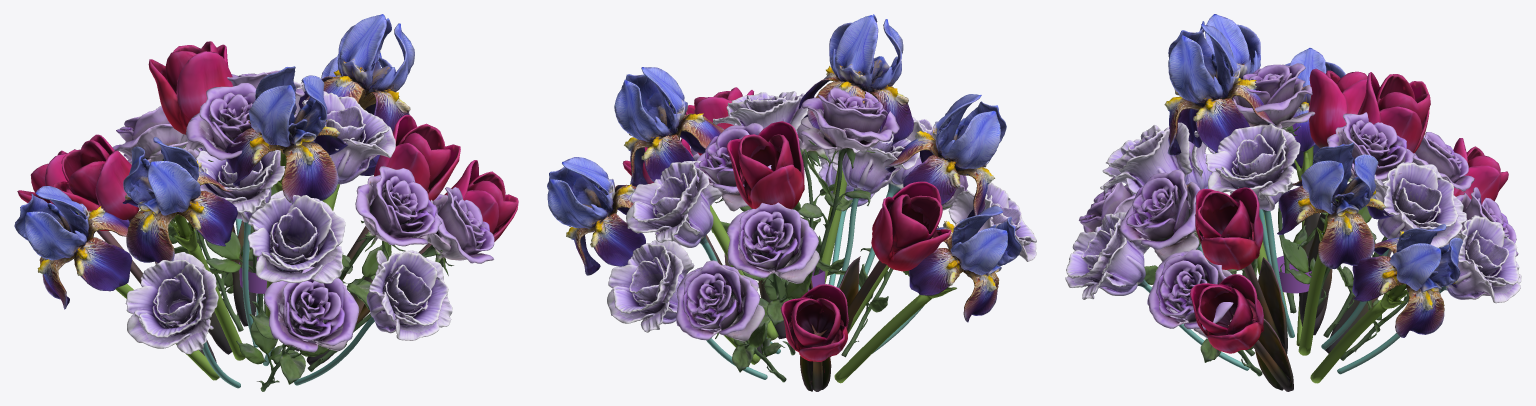
File: purple_flower_bouquet.glb
3 views of the same model, side by side, from view 1: azimuth 30°, elevation 25°; view 2: azimuth 150°, elevation 25°; view 3: azimuth 270°, elevation 25° (orthographic). The views are drawn at different scales.
Parts seen in each view (by area): view 1: Bouquet_iris_12, Bouquet_iris_1, Bouquet_iris_21, Bouquet_rose_23, Bouquet_eustoma_22, Bouquet_eustoma_13, Bouquet_eustoma_14, Bouquet_rose_6, Bouquet_iris_8, Bouquet_tulip_4, Bouquet_rose_0, Bouquet_tulip_11 (+10 smaller); view 2: Bouquet_iris_21, Bouquet_iris_8, Bouquet_iris_12, Bouquet_rose_10, Bouquet_iris_17, Bouquet_iris_1, Bouquet_rose_19, Bouquet_rose_0, Bouquet_tulip_11, Bouquet_eustoma_18, Bouquet_eustoma_9, Bouquet_tulip_4 (+11 smaller); view 3: Bouquet_iris_8, Bouquet_iris_17, Bouquet_iris_1, Bouquet_tulip_7, Bouquet_eustoma_2, Bouquet_tulip_16, Bouquet_eustoma_9, Bouquet_eustoma_14, Bouquet_rose_6, Bouquet_eustoma_18, Bouquet_rose_15, Bouquet_tulip_4 (+12 smaller).
Boxes of the visible parts, x1,y1,x2,y2 form: Bouquet_iris_12: (122, 137, 245, 360); Bouquet_iris_1: (225, 66, 347, 317); Bouquet_iris_21: (14, 186, 219, 380); Bouquet_rose_23: (236, 266, 359, 391); Bouquet_eustoma_22: (125, 252, 240, 388); Bouquet_eustoma_13: (247, 190, 345, 365); Bouquet_eustoma_14: (294, 250, 452, 385); Bouquet_rose_6: (289, 166, 441, 350); Bouquet_iris_8: (298, 14, 414, 209); Bouquet_tulip_4: (148, 41, 256, 326); Bouquet_rose_0: (186, 83, 280, 313); Bouquet_tulip_11: (53, 134, 232, 354); Bouquet_iris_21: (834, 206, 1021, 383); Bouquet_iris_8: (614, 67, 778, 340); Bouquet_iris_12: (848, 94, 1006, 333); Bouquet_rose_10: (727, 202, 819, 355); Bouquet_iris_17: (547, 157, 760, 364); Bouquet_iris_1: (798, 14, 913, 283); Bouquet_rose_19: (676, 260, 786, 382); Bouquet_rose_0: (798, 87, 899, 275); Bouquet_tulip_11: (830, 181, 951, 356); Bouquet_eustoma_18: (607, 240, 767, 379); Bouquet_eustoma_9: (626, 160, 780, 353); Bouquet_tulip_4: (726, 121, 812, 289); Bouquet_iris_8: (1277, 142, 1393, 355); Bouquet_iris_17: (1310, 224, 1463, 383); Bouquet_iris_1: (1164, 24, 1276, 274); Bouquet_tulip_7: (1195, 187, 1287, 354); Bouquet_eustoma_2: (1205, 124, 1300, 337); Bouquet_tulip_16: (1190, 274, 1293, 391); Bouquet_eustoma_9: (1321, 162, 1466, 349); Bouquet_eustoma_14: (1065, 212, 1249, 370); Bouquet_rose_6: (1119, 169, 1257, 278); Bouquet_eustoma_18: (1337, 215, 1521, 374); Bouquet_rose_15: (1147, 249, 1262, 376); Bouquet_tulip_4: (1300, 72, 1430, 321).
Bounding box in the file's own units: 1.05 × 0.7661 × 0.9449.
5 materials, 4 textured.
